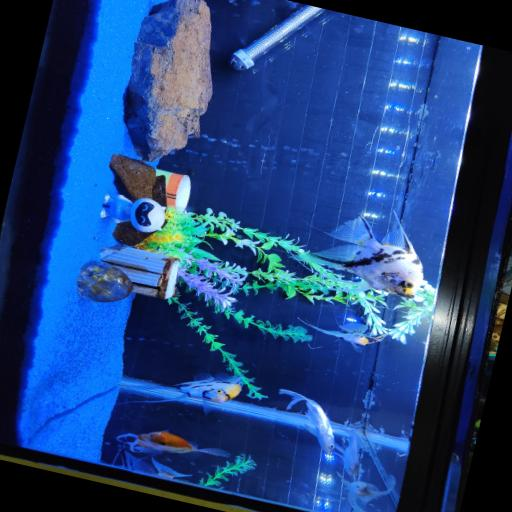Fish: (295, 211, 422, 297), (117, 372, 240, 410), (278, 388, 334, 451), (116, 430, 229, 456), (299, 318, 385, 351), (338, 473, 395, 511), (117, 448, 190, 477), (338, 473, 395, 502), (334, 427, 359, 475)
